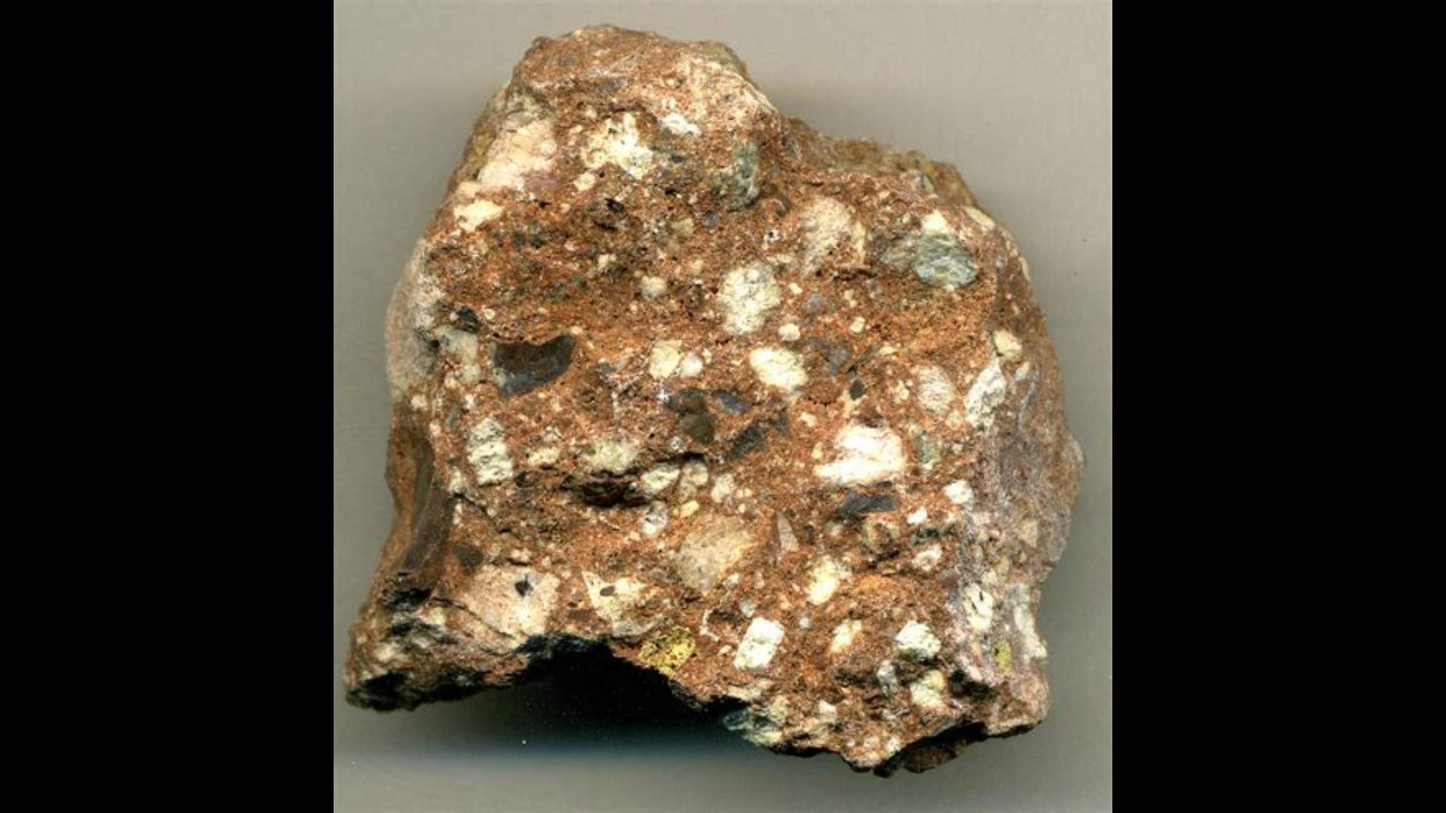rock: (343, 26, 1081, 772)
